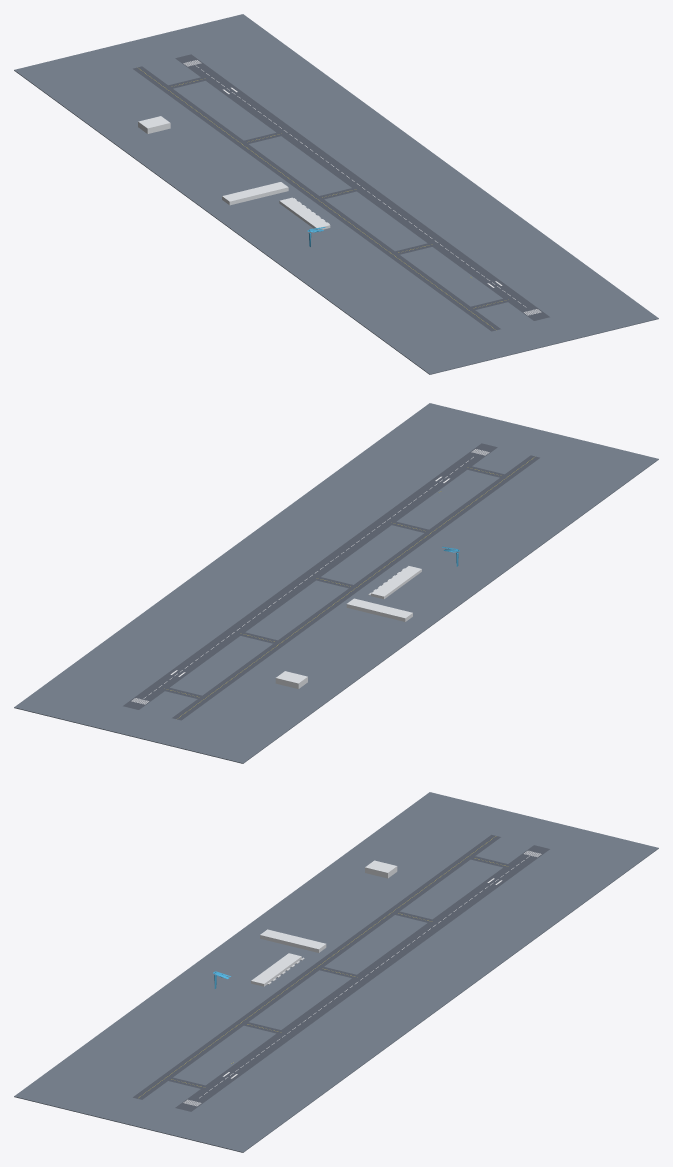
Rendered from airport.glb.
3 renders of one model, top to bottom at view 1: azimuth 30°, elevation 25°; view 2: azimuth 150°, elevation 25°; view 3: azimuth 330°, elevation 25°, orthographic.
Parts seen in each view (by area): view 1: Airfield_Ground_And_Runways, Terminal_Tower_And_Facilities; view 2: Airfield_Ground_And_Runways, Terminal_Tower_And_Facilities; view 3: Airfield_Ground_And_Runways, Terminal_Tower_And_Facilities.
Part boxes in pixels (bbox=[...]): Airfield_Ground_And_Runways: bbox=[14, 14, 658, 374]; Terminal_Tower_And_Facilities: bbox=[138, 116, 471, 277]; Airfield_Ground_And_Runways: bbox=[14, 403, 658, 763]; Terminal_Tower_And_Facilities: bbox=[275, 491, 459, 688]; Airfield_Ground_And_Runways: bbox=[14, 792, 658, 1152]; Terminal_Tower_And_Facilities: bbox=[213, 860, 397, 1063].
Size of the model in its own units: 1400 by 104 by 4400.
